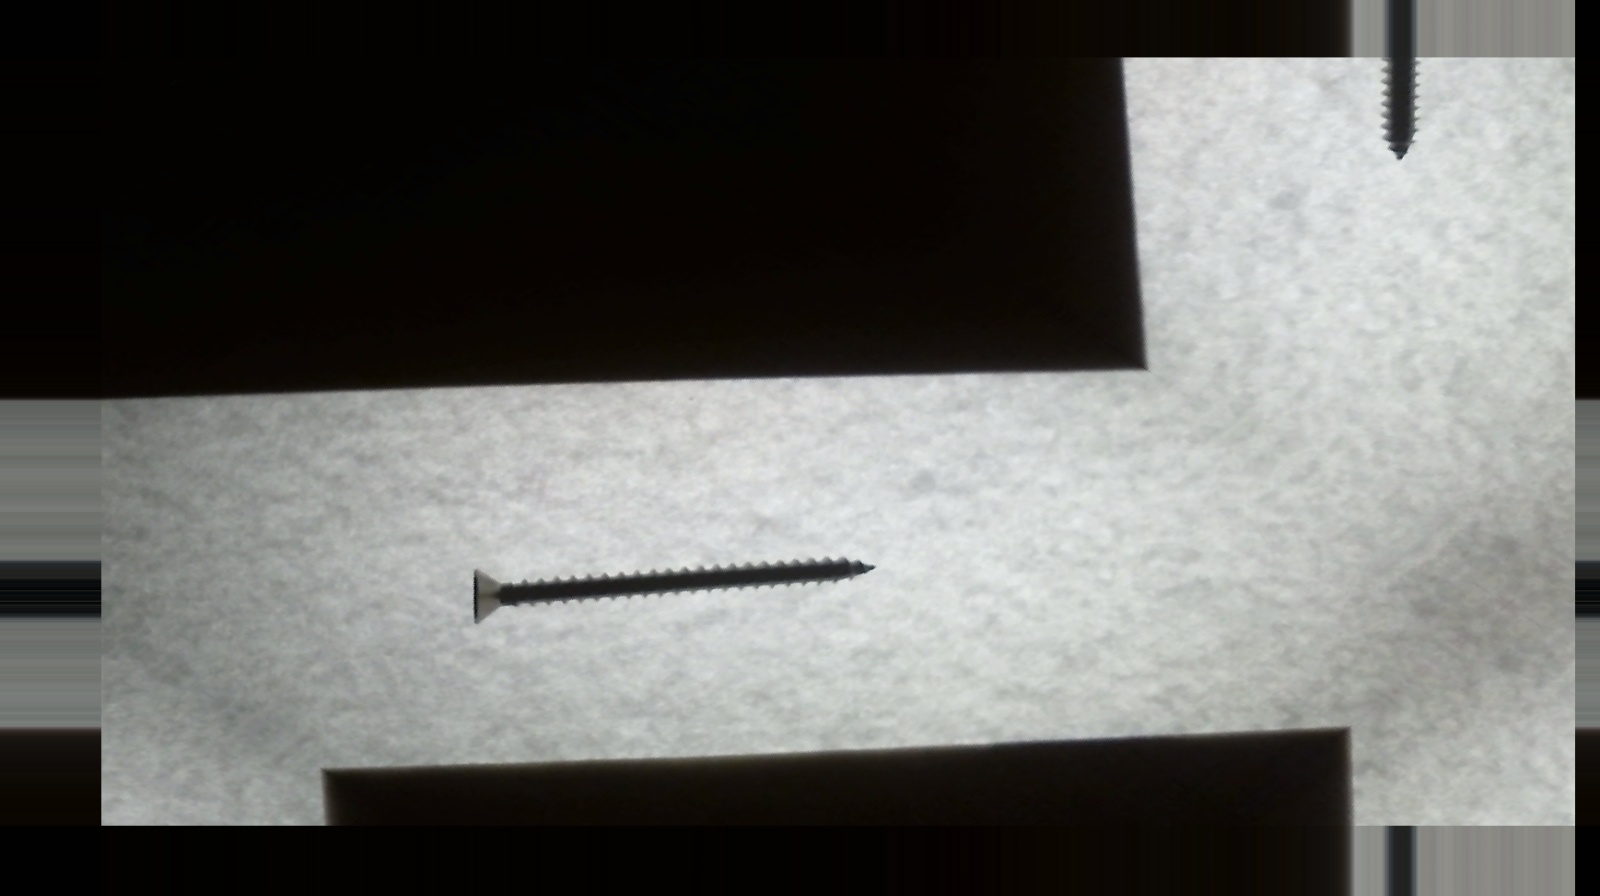S002: (393, 392, 943, 784)
